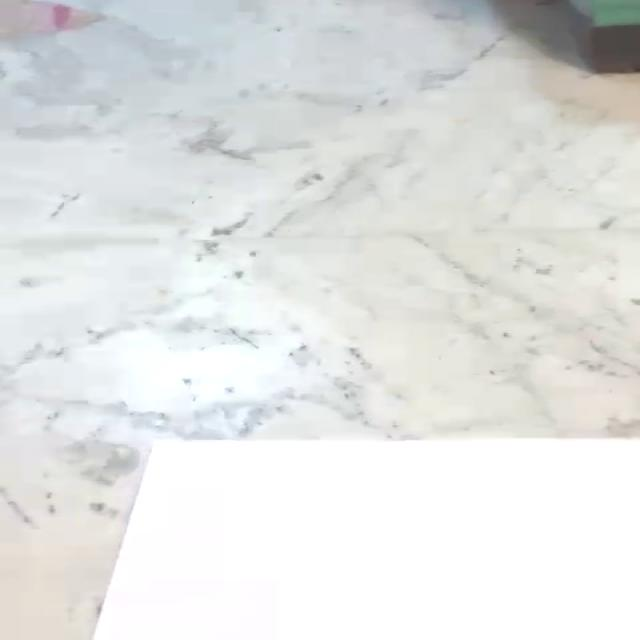road: (92, 438, 640, 640)
